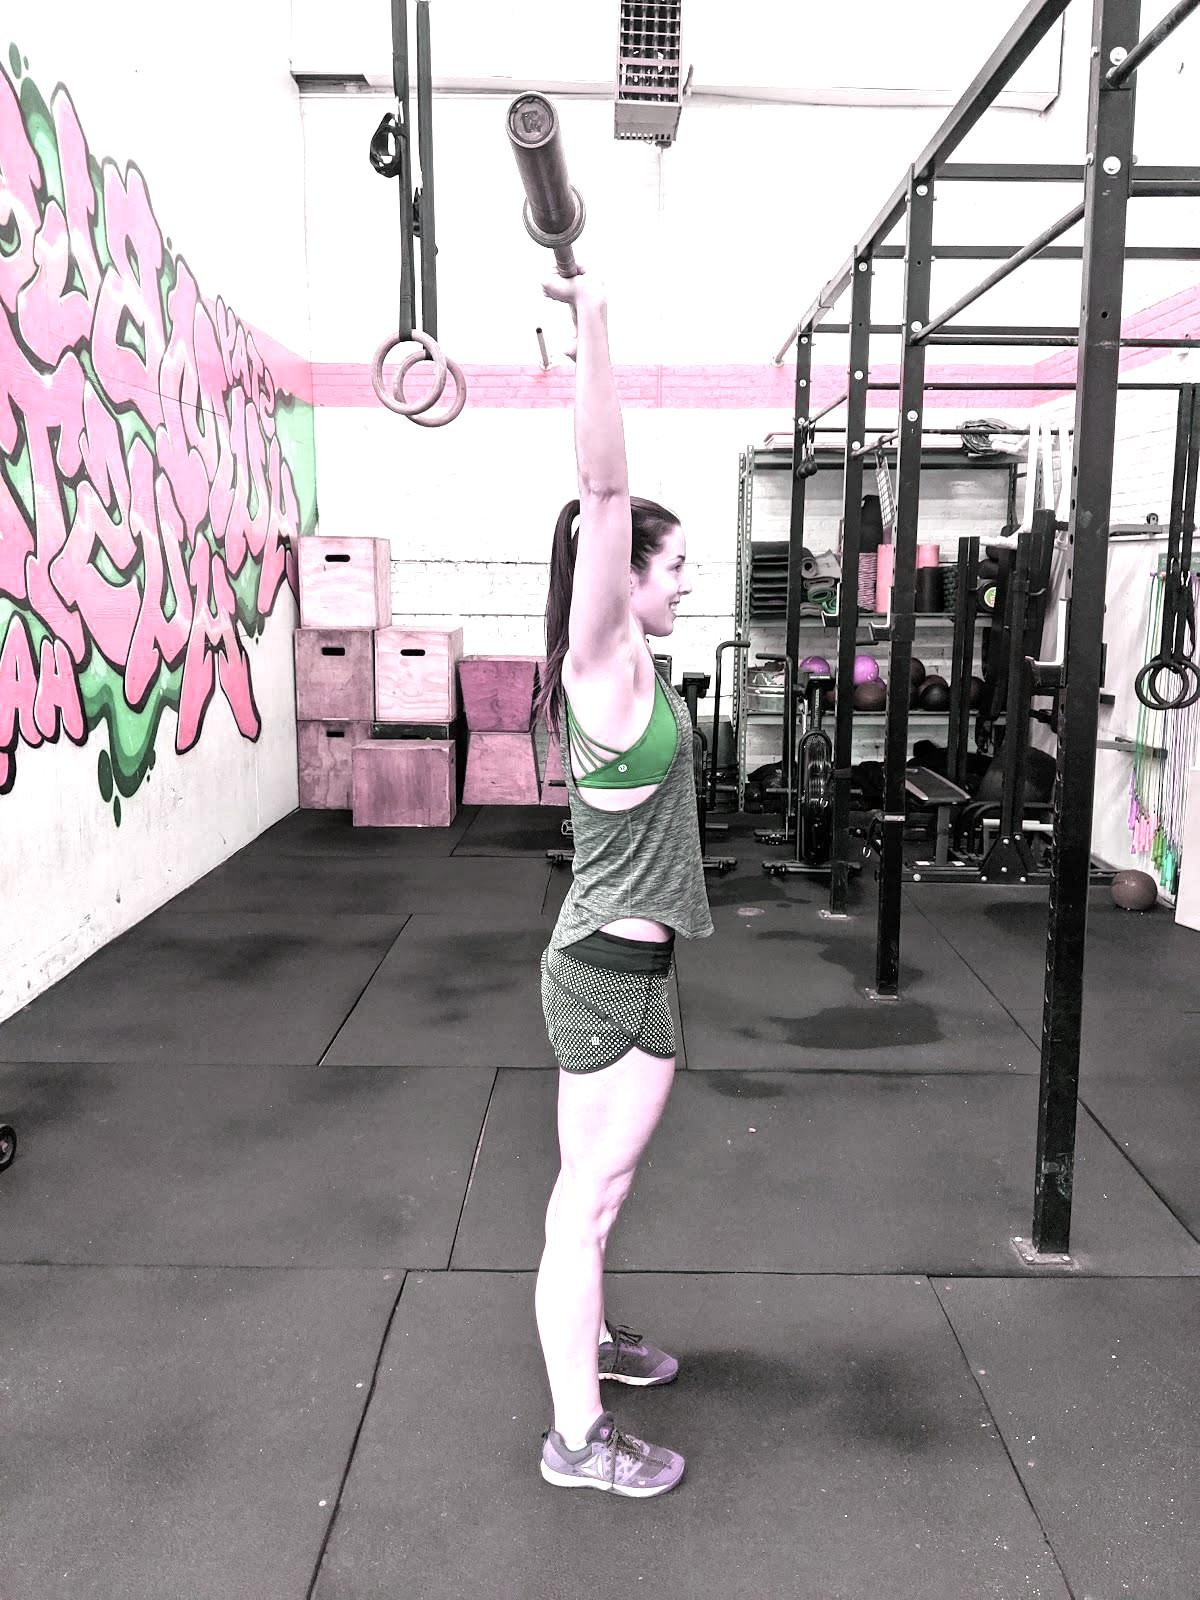Barbell: (495, 83, 563, 159)
